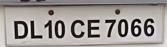0: (117, 18, 130, 39), (55, 19, 65, 39)
1: (43, 19, 54, 40)
6: (144, 18, 156, 39), (131, 18, 143, 37)
7: (104, 18, 117, 39)
C: (70, 19, 87, 40)
E: (12, 20, 29, 40), (87, 19, 102, 38)
L: (29, 20, 43, 40)
